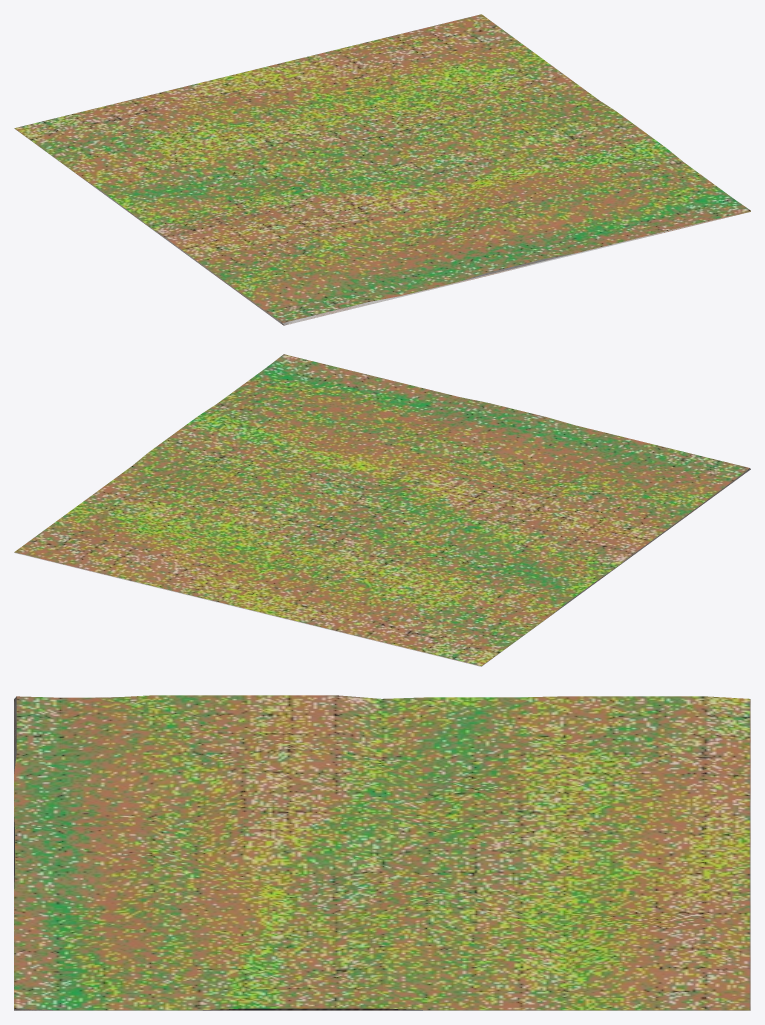
File: floor_large.obj
The picture shows the model from 3 angles, top to bottom: view 1: azimuth 30°, elevation 25°; view 2: azimuth 150°, elevation 25°; view 3: azimuth 270°, elevation 25°; orthographic projection. The views are drawn at different scales.
Parts seen in each view (by area): view 1: Cube; view 2: Cube; view 3: Cube.
Boxes of the visible parts, bbox=[...] form: Cube: bbox=[14, 14, 750, 325]; Cube: bbox=[14, 354, 750, 666]; Cube: bbox=[14, 695, 750, 1010].
Bounding box in the file's own units: 40.13 × 0.3659 × 40.
